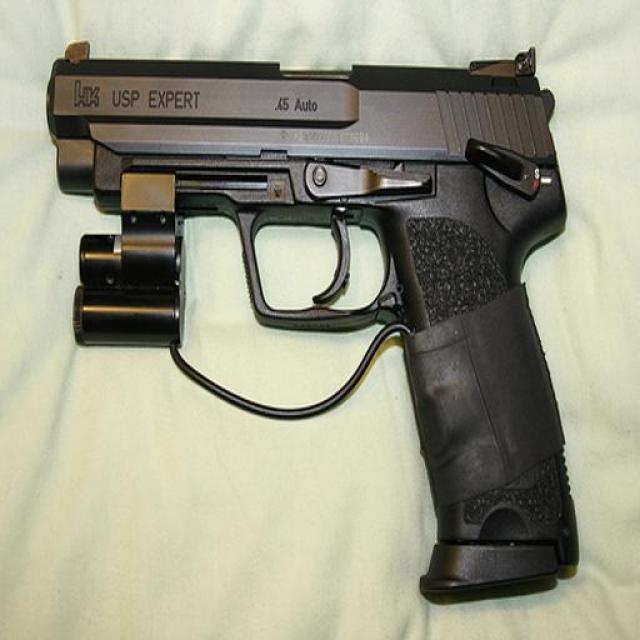pistol: (44, 37, 579, 601)
